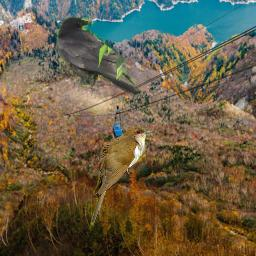Crow: (56, 17, 142, 95)
Cuckoo: (90, 125, 153, 231)
